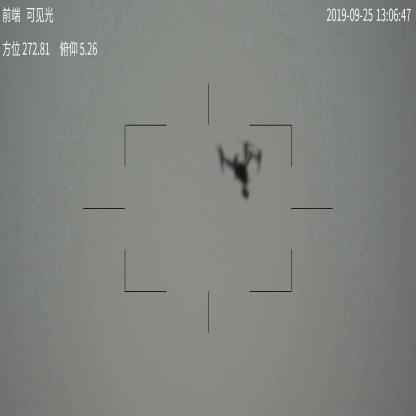uav: (213, 136, 266, 200)
